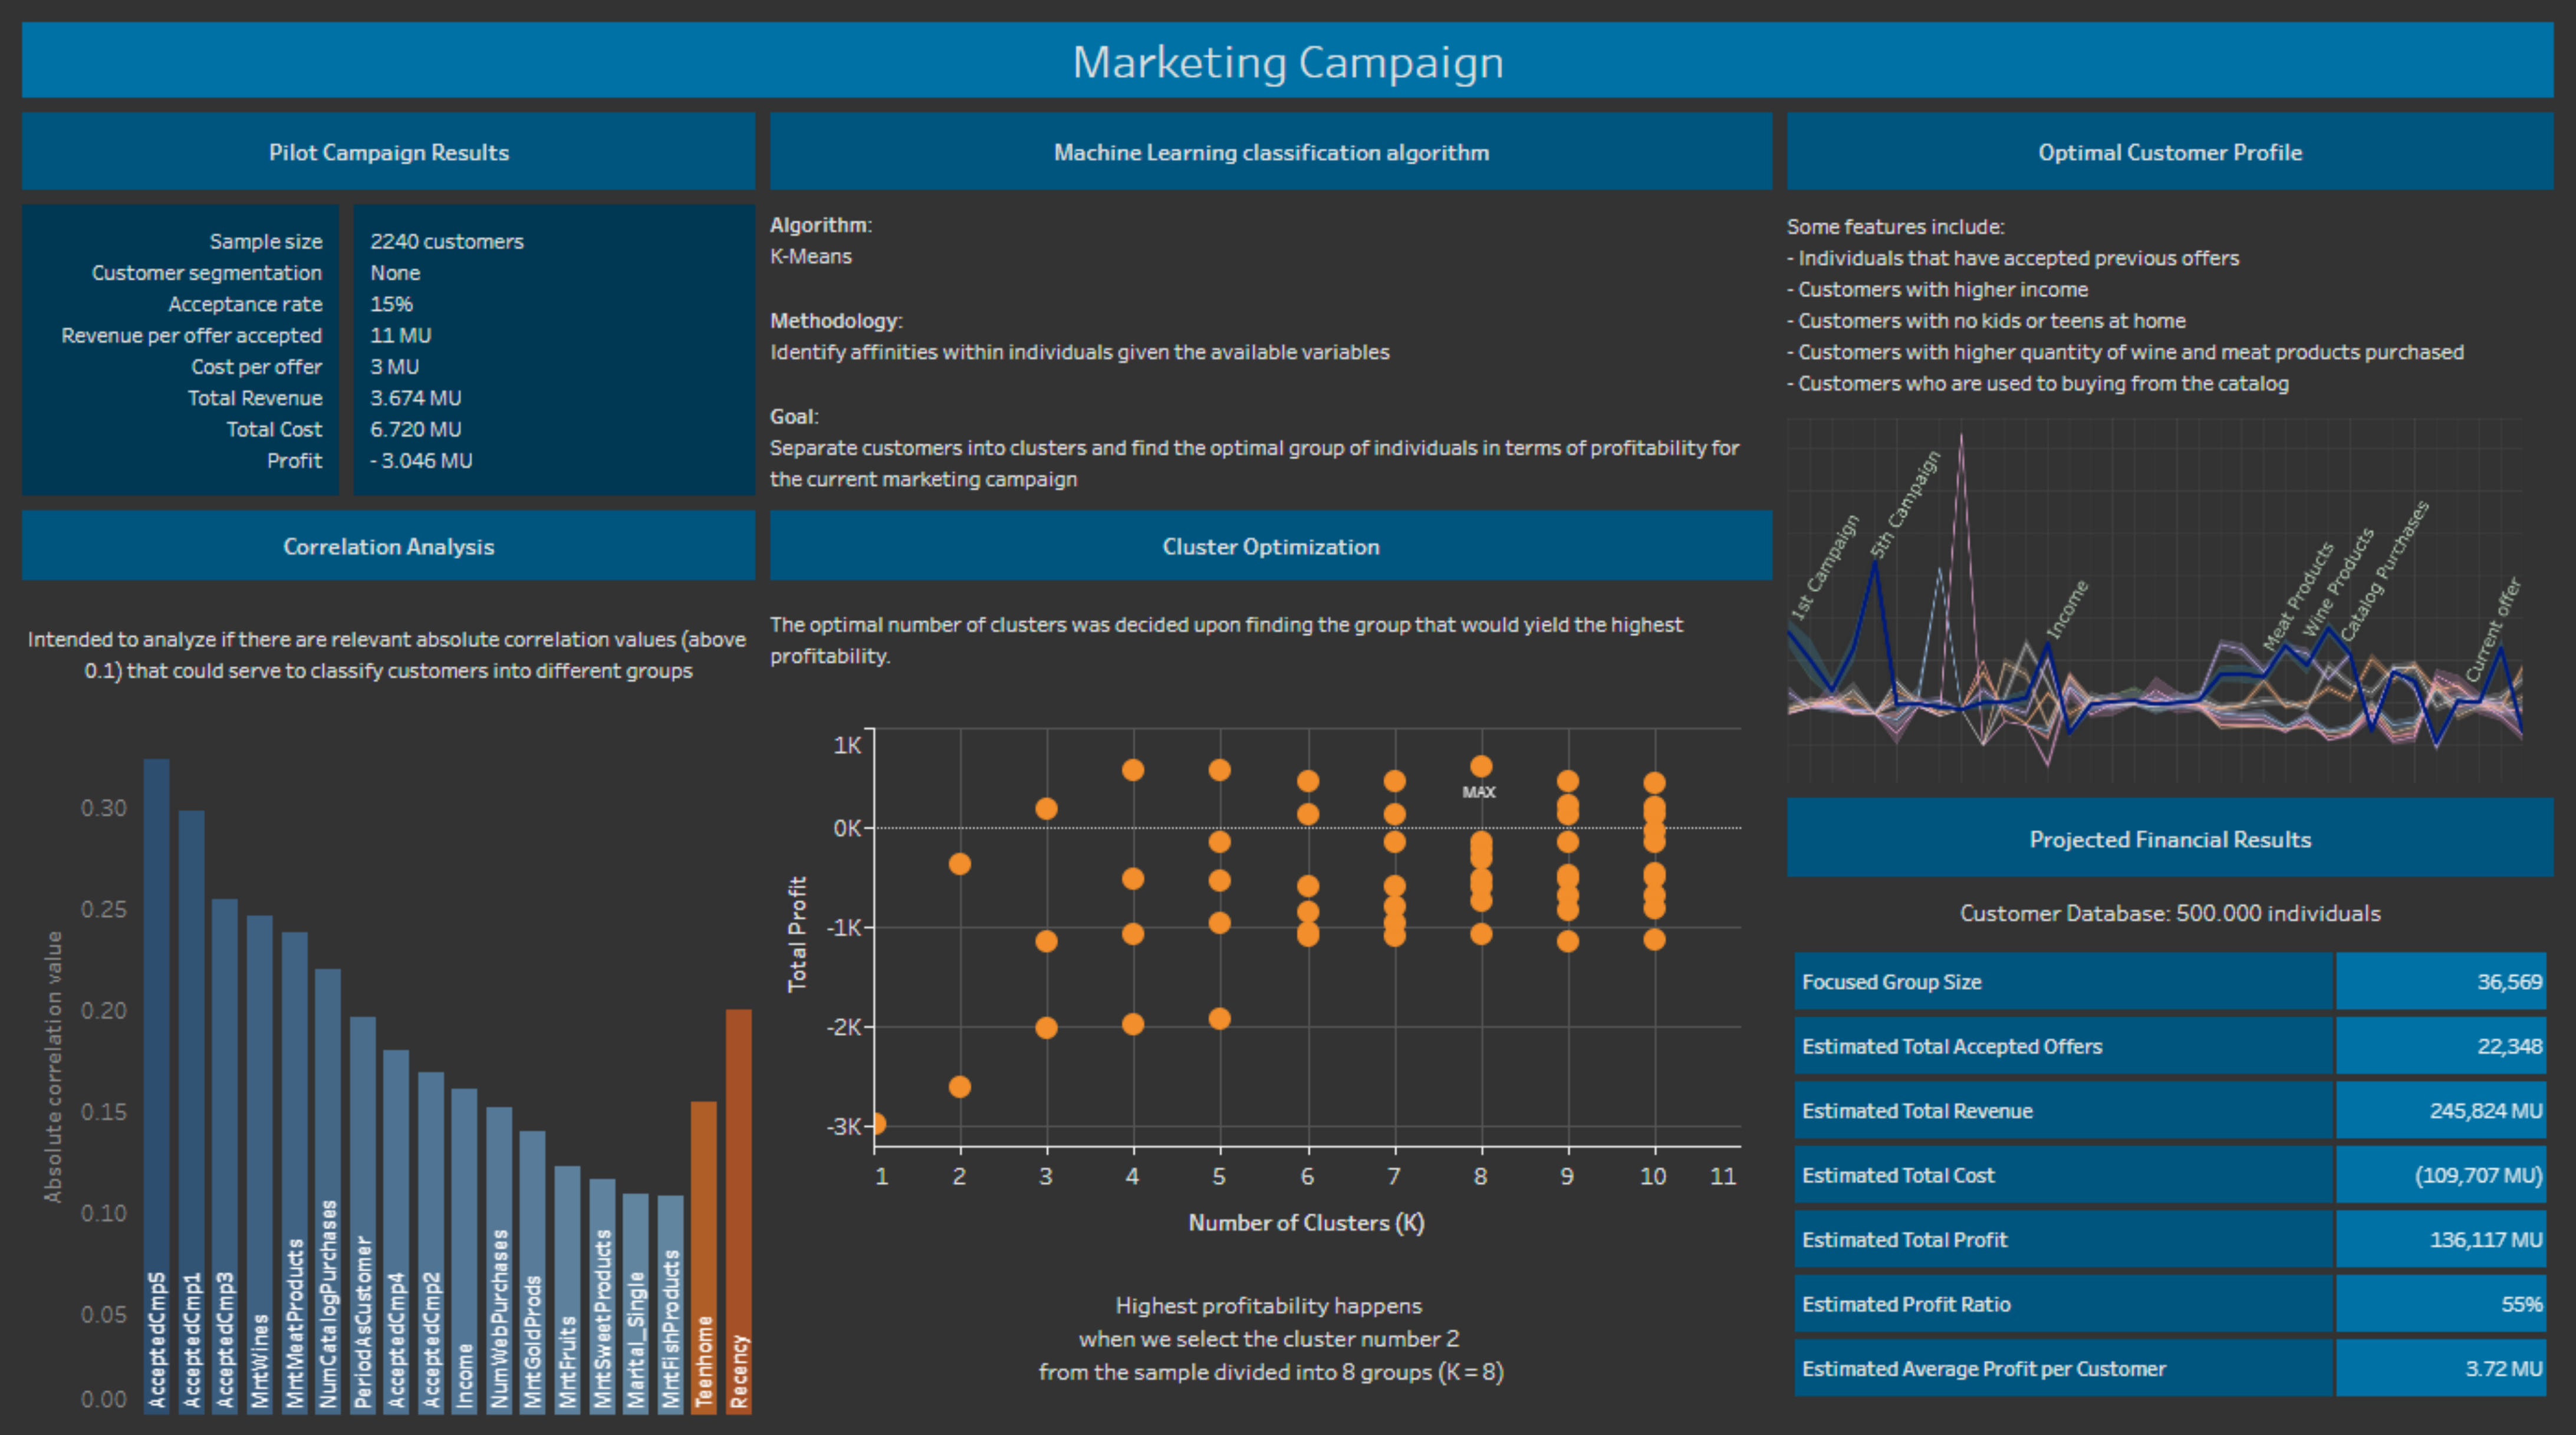

The page's visual inventory and layout, read from the dashboard file:
{"tool":"tableau","page":{"name":"Dashboard 1","canvas":[1000,1000],"units":"permille","ordinal":0},"visuals":[{"type":"worksheet","box":[0,0,1000,1000]},{"type":"worksheet","box":[5.3,9.2,989.4,63.2]},{"type":"worksheet","box":[5.3,72.3,290.5,64]},{"type":"worksheet","box":[295.8,72.3,395.4,64]},{"type":"worksheet","box":[691.2,72.3,303.4,64]},{"type":"worksheet","box":[5.3,136.3,128.7,213.1]},{"type":"worksheet","box":[134,136.3,161.8,213.1]},{"type":"worksheet","box":[295.8,136.3,395.4,213.1]},{"type":"worksheet","box":[691.2,136.3,303.4,148.9]},{"type":"worksheet","param":"Image/clusters_viz.png","box":[691.2,285.2,303.4,264.6]},{"type":"worksheet","box":[5.3,349.4,290.5,59.6]},{"type":"worksheet","box":[295.8,349.4,395.4,59.6]},{"type":"worksheet","box":[5.3,408.9,290.5,90.5]},{"type":"worksheet","param":"horz","box":[295.8,408.9,395.4,581.9]},{"type":"worksheet","box":[295.8,408.9,395.4,581.9]},{"type":"worksheet","box":[295.8,408.9,395.4,581.9]},{"type":"worksheet","param":"vert","box":[295.8,408.9,395.4,581.9]},{"type":"worksheet","box":[295.8,408.9,395.4,581.9]},{"type":"worksheet","param":"vert","box":[295.8,408.9,395.4,70.3]},{"type":"worksheet","box":[295.8,408.9,395.4,70.3]},{"type":"worksheet","param":"vert","box":[295.8,479.3,395.4,511.6]},{"type":"worksheet","title":"Cluster Profitability","mark":"Circle","rows":["Total_Profit"],"cols":["k"],"box":[295.8,479.3,395.4,421.1]},{"type":"worksheet","param":"horz","box":[5.3,499.4,290.5,491.4]},{"type":"worksheet","title":"Correlation","mark":"Bar","rows":["Calculation_1016406158015766528"],"cols":["F1"],"box":[5.3,499.4,290.5,491.4]},{"type":"worksheet","box":[691.2,549.8,303.4,65.3]},{"type":"worksheet","box":[691.2,615.1,303.4,37.8]},{"type":"worksheet","param":"vert","box":[691.2,652.9,303.4,337.9]},{"type":"worksheet","title":"Ideal k","mark":"Automatic","box":[691.2,652.9,303.4,337.9]},{"type":"worksheet","box":[295.8,900.4,395.4,90.5]}]}

Visuals, with their boxes on the dashboard's canvas, which has no fixed pixel size, in thousandths of its width and height (x1, y1, x2, y2). These are canvas units, not pixel positions in the 2576x1435 screenshot, which may show the page scaled, cropped or inside an application window:
worksheet: (x1=0, y1=0, x2=1000, y2=1000)
worksheet: (x1=5, y1=9, x2=995, y2=72)
worksheet: (x1=5, y1=72, x2=296, y2=136)
worksheet: (x1=296, y1=72, x2=691, y2=136)
worksheet: (x1=691, y1=72, x2=995, y2=136)
worksheet: (x1=5, y1=136, x2=134, y2=349)
worksheet: (x1=134, y1=136, x2=296, y2=349)
worksheet: (x1=296, y1=136, x2=691, y2=349)
worksheet: (x1=691, y1=136, x2=995, y2=285)
worksheet: (x1=691, y1=285, x2=995, y2=550)
worksheet: (x1=5, y1=349, x2=296, y2=409)
worksheet: (x1=296, y1=349, x2=691, y2=409)
worksheet: (x1=5, y1=409, x2=296, y2=499)
worksheet: (x1=296, y1=409, x2=691, y2=991)
worksheet: (x1=296, y1=409, x2=691, y2=991)
worksheet: (x1=296, y1=409, x2=691, y2=991)
worksheet: (x1=296, y1=409, x2=691, y2=991)
worksheet: (x1=296, y1=409, x2=691, y2=991)
worksheet: (x1=296, y1=409, x2=691, y2=479)
worksheet: (x1=296, y1=409, x2=691, y2=479)
worksheet: (x1=296, y1=479, x2=691, y2=991)
"Cluster Profitability" worksheet (Circle marks): (x1=296, y1=479, x2=691, y2=900)
worksheet: (x1=5, y1=499, x2=296, y2=991)
"Correlation" worksheet (Bar marks): (x1=5, y1=499, x2=296, y2=991)
worksheet: (x1=691, y1=550, x2=995, y2=615)
worksheet: (x1=691, y1=615, x2=995, y2=653)
worksheet: (x1=691, y1=653, x2=995, y2=991)
"Ideal k" worksheet: (x1=691, y1=653, x2=995, y2=991)
worksheet: (x1=296, y1=900, x2=691, y2=991)
